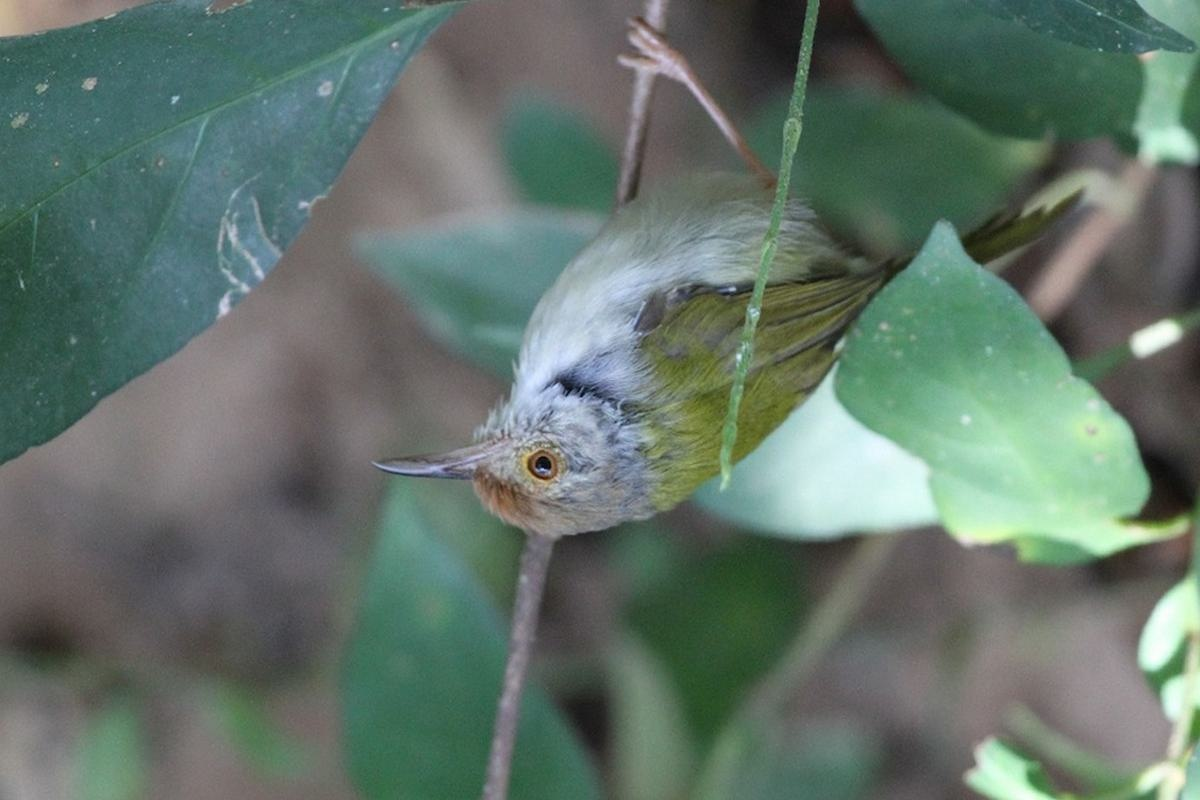tailorbird: (366, 95, 1037, 566)
